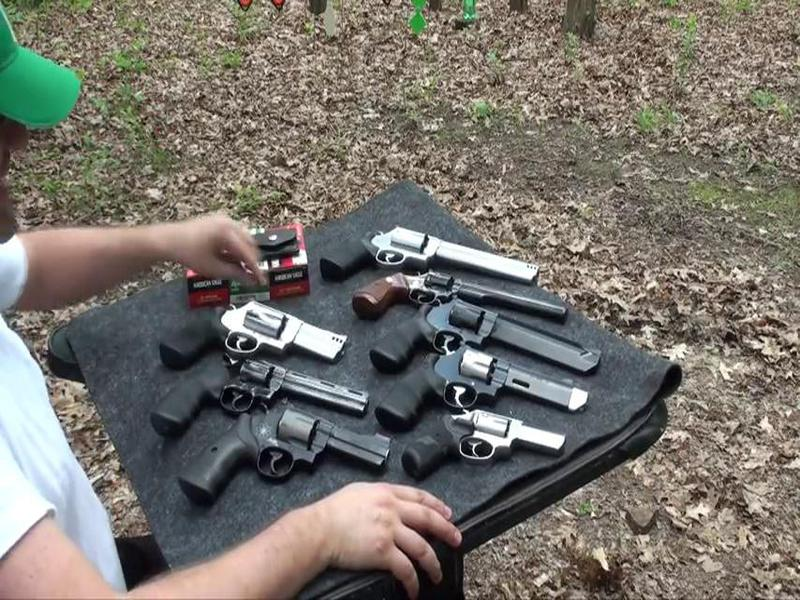Revolver: (355, 250, 569, 343)
